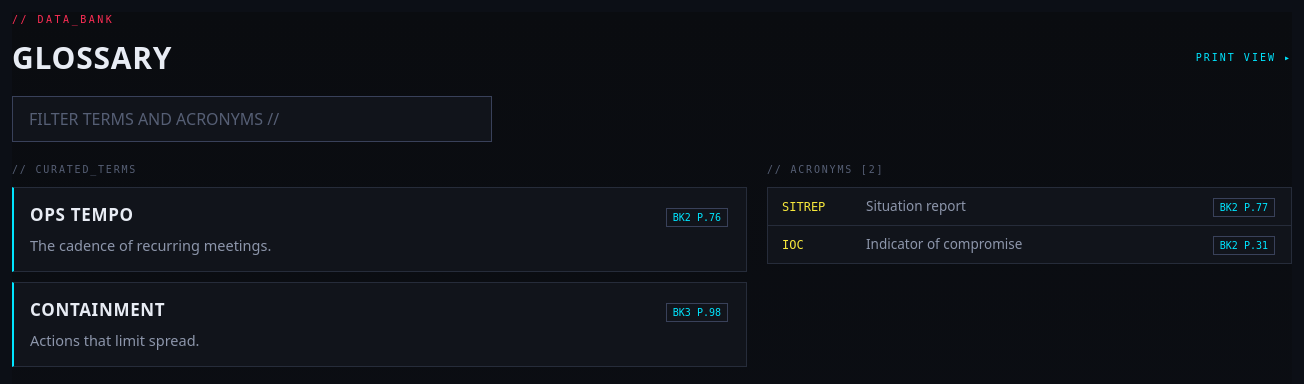
filtering narrows terms and acronyms and updates the acronym count
The width and height of the screenshot is (1304, 384).
expect the text "Ops Tempo" is shown: met, box x1=30 y1=203 x2=134 y2=226
Type "sitrep" into the field labelled "Filter terms and acronyms" at {"x": 252, "y": 119}, box x1=12 y1=96 x2=492 y2=142
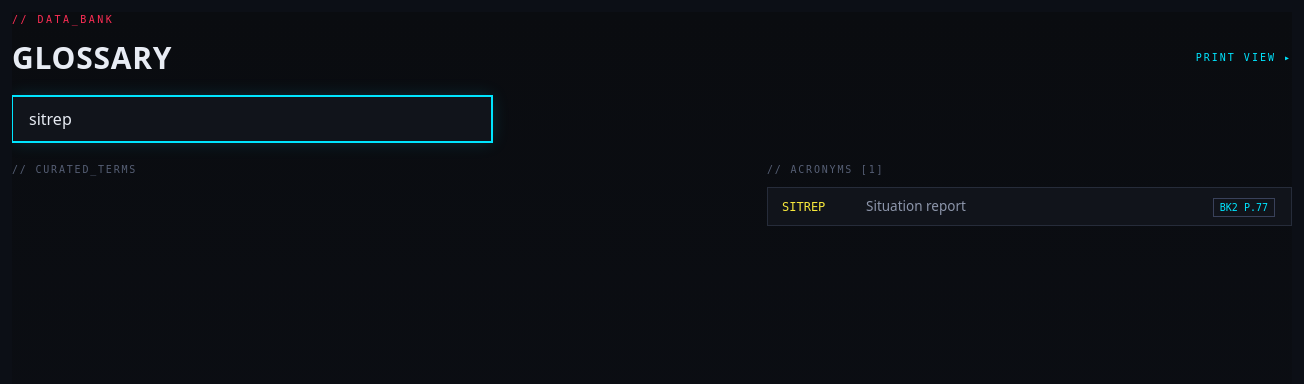
expect the text "Situation report" is shown: met, box x1=866 y1=197 x2=966 y2=215
expect the text "Ops Tempo" is gone: met
expect the text "// ACRONYMS [1]" is shown: met, box x1=767 y1=164 x2=884 y2=175
